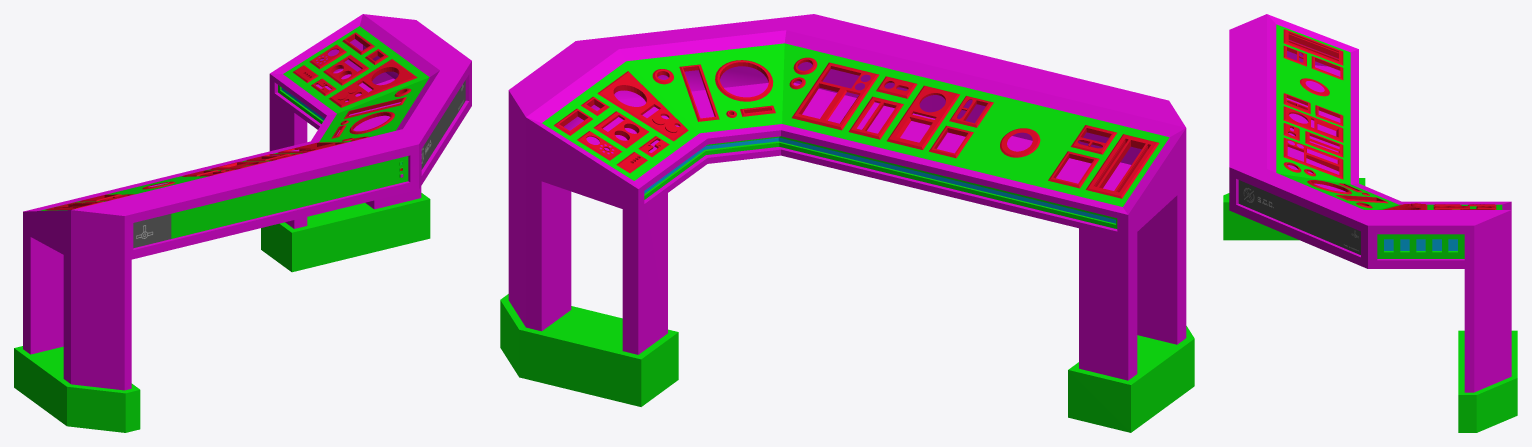
File: PilotConsoleV16.fbx
The picture shows the model from 3 angles, left to right: view 1: azimuth 30°, elevation 25°; view 2: azimuth 150°, elevation 25°; view 3: azimuth 270°, elevation 25°; orthographic projection. The views are drawn at different scales.
Parts seen in each view (by area): view 1: PilotConsole; view 2: PilotConsole, PilotConsoleLightStrip; view 3: PilotConsole, PilotConsoleLightStrip.
Part boxes in pixels (x1,y1,x2,y2): PilotConsole: (14, 14, 471, 432); PilotConsole: (500, 14, 1194, 432); PilotConsoleLightStrip: (644, 137, 1115, 223); PilotConsole: (1223, 14, 1517, 432); PilotConsoleLightStrip: (1384, 239, 1457, 250).
Size of the model in its own units: 2.9 by 1.28 by 1.66.
8 materials, 2 textured.
